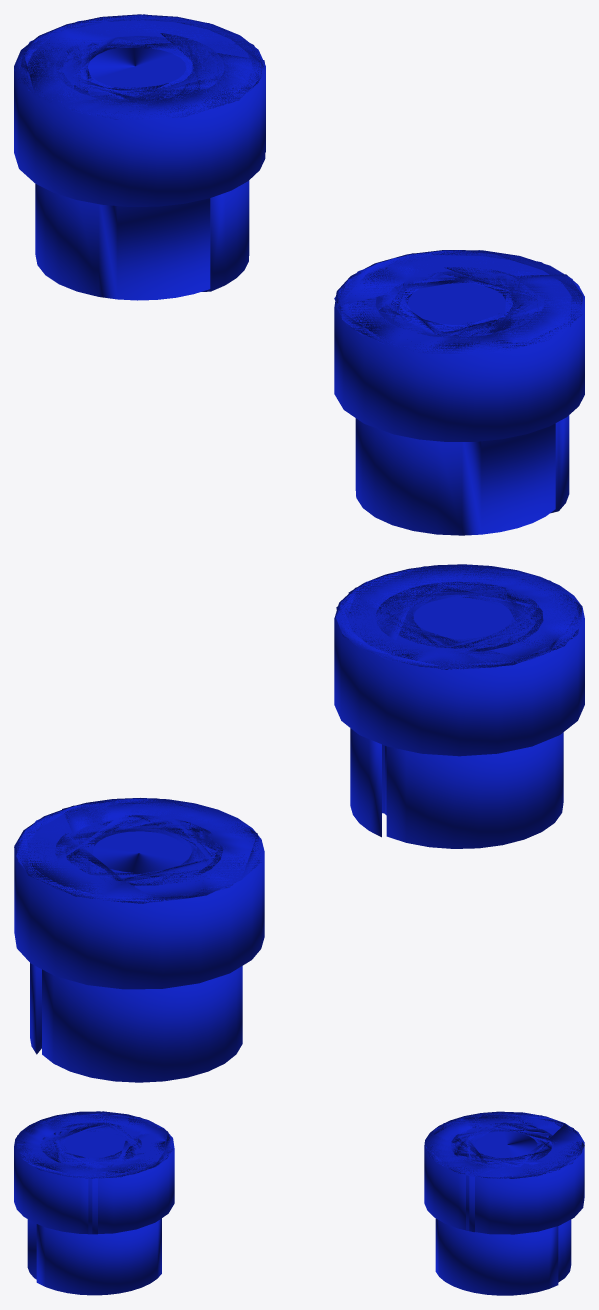
Rendered from tuyeau_element_000096.obj.
The picture shows the model from 3 angles, top to bottom: view 1: azimuth 30°, elevation 25°; view 2: azimuth 150°, elevation 25°; view 3: azimuth 270°, elevation 25°; orthographic projection. The views are drawn at different scales.
Visible parts, largest first — view 1: tuyeau1_Cube.014, tuyeau2_Cube.017; view 2: tuyeau2_Cube.017, tuyeau1_Cube.014; view 3: tuyeau1_Cube.014, tuyeau2_Cube.017.
Boxes of the visible parts, bbox=[...] form: tuyeau1_Cube.014: bbox=[14, 14, 265, 300]; tuyeau2_Cube.017: bbox=[334, 250, 584, 535]; tuyeau2_Cube.017: bbox=[334, 564, 584, 848]; tuyeau1_Cube.014: bbox=[14, 798, 264, 1082]; tuyeau1_Cube.014: bbox=[424, 1111, 584, 1295]; tuyeau2_Cube.017: bbox=[14, 1111, 174, 1295].
Bounding box in the file's own units: 3537 × 2917 × 12517.
